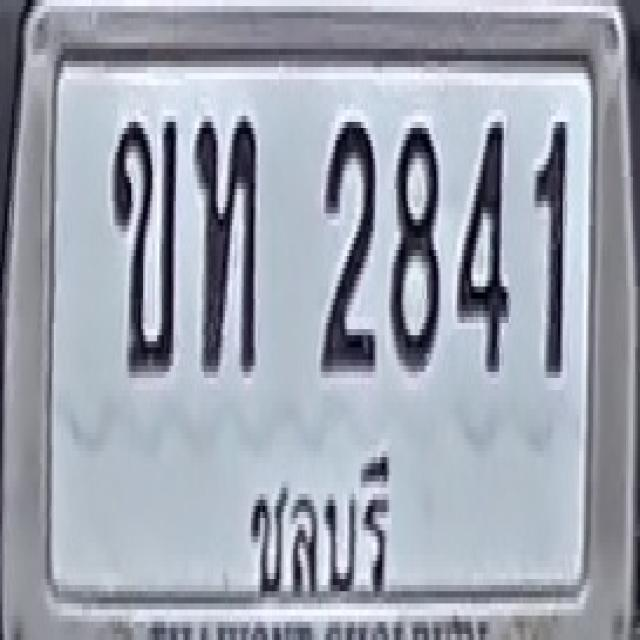1: (532, 119, 567, 375)
2: (320, 116, 376, 372)
4: (457, 116, 509, 372)
8: (389, 122, 438, 372)
A02: (111, 116, 177, 372)
A23: (193, 113, 257, 375)
CBI: (239, 435, 396, 626)
